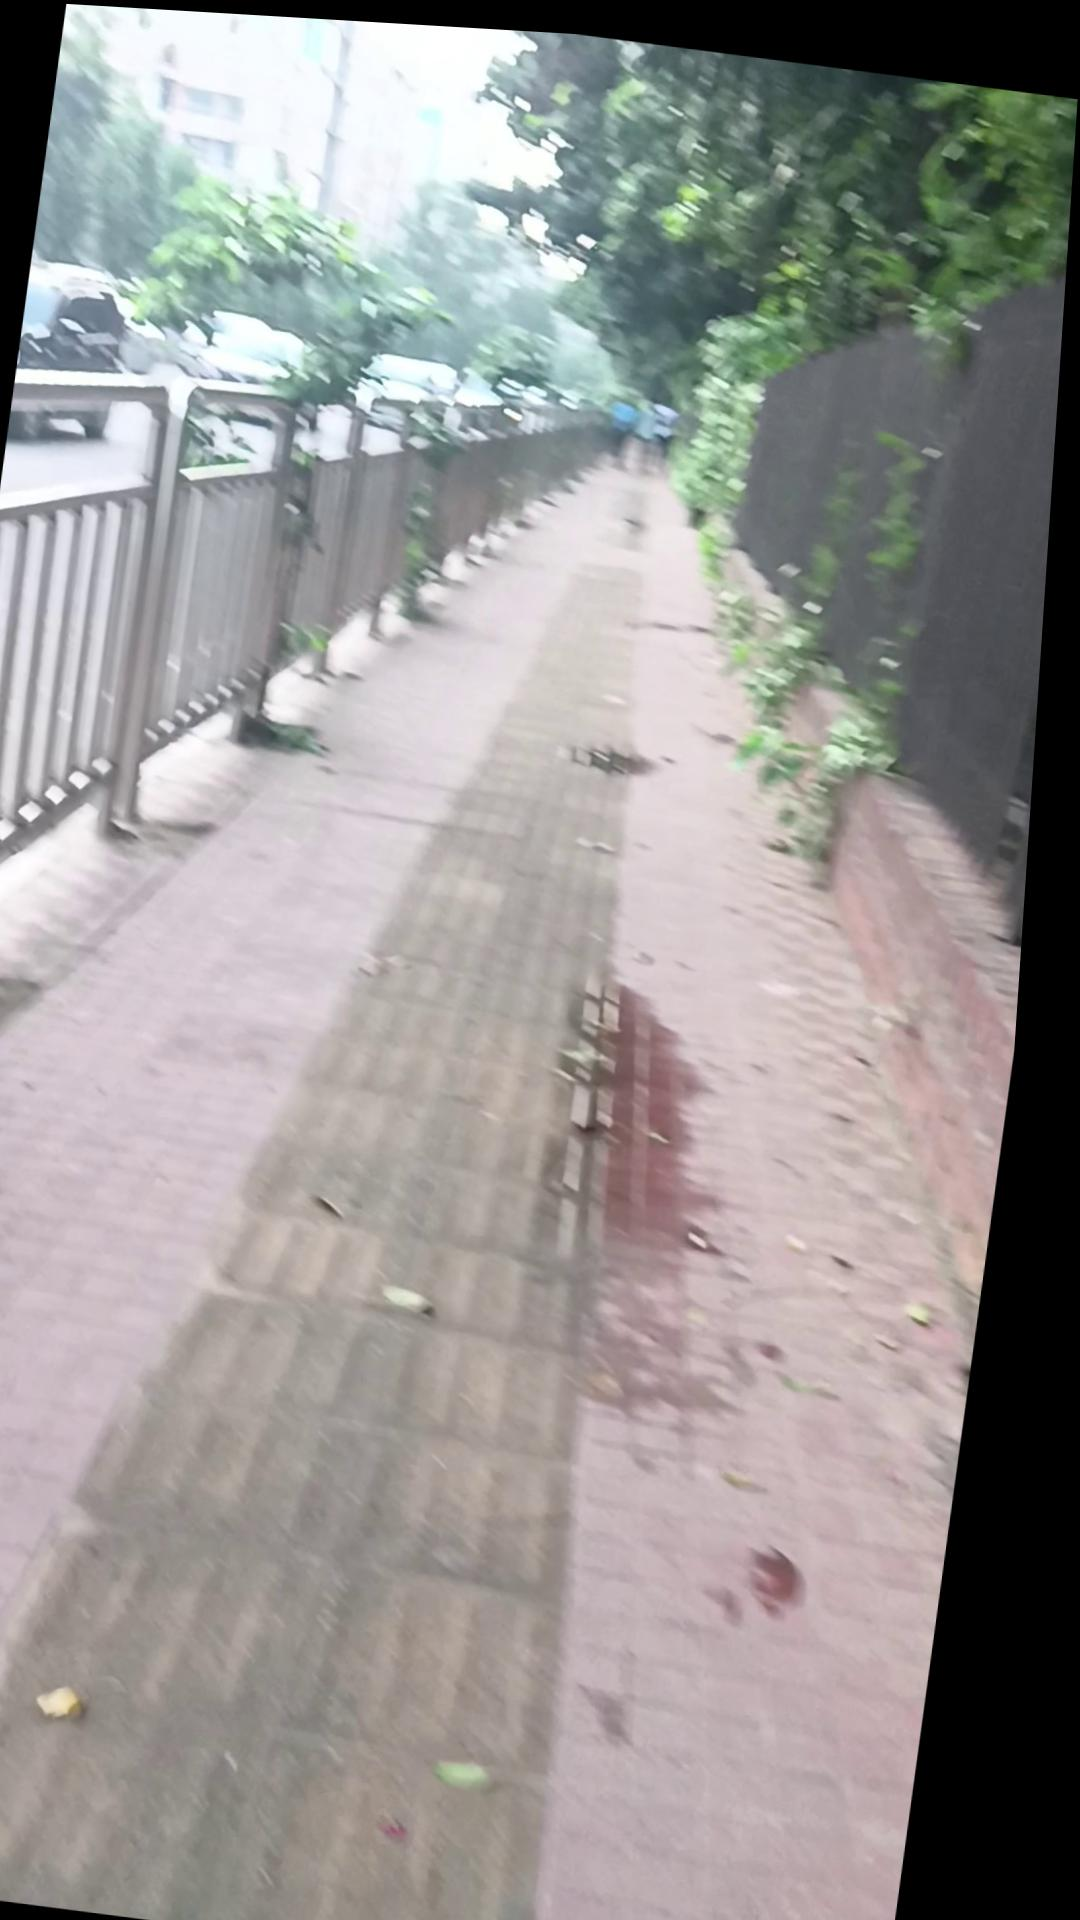Muddy road: (629, 386, 666, 465), (609, 386, 644, 459)
Potted-plant: (0, 359, 1062, 1920)
